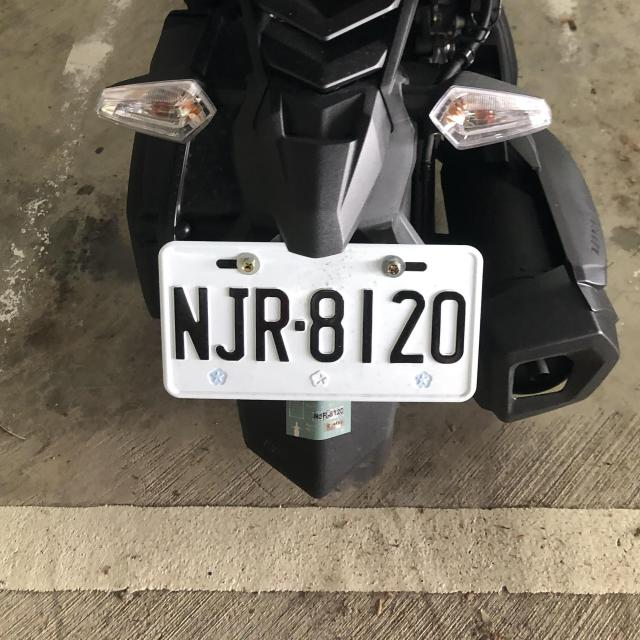W: (152, 237, 484, 414)
